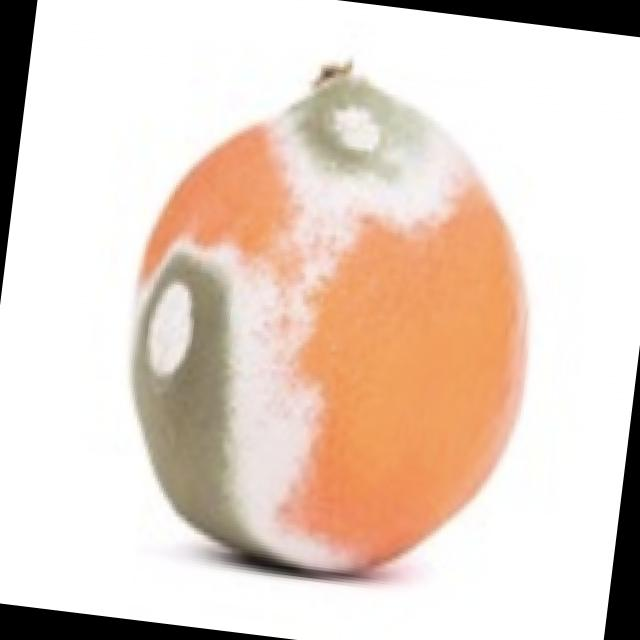rotten-orange: (96, 44, 556, 602)
